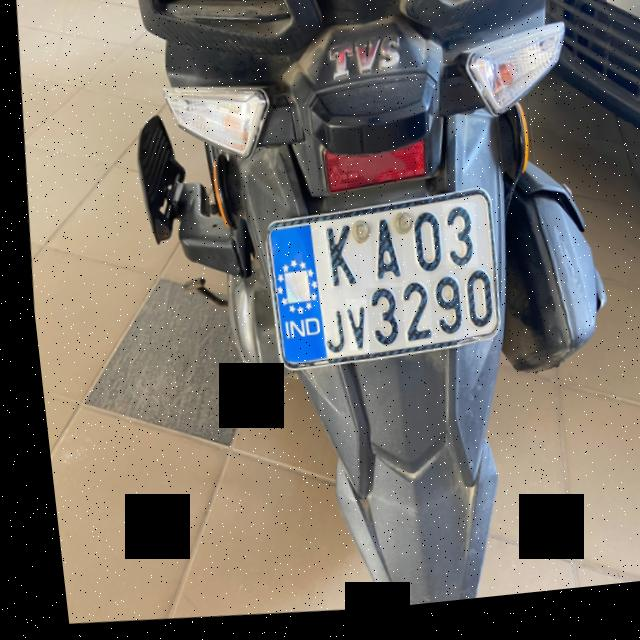0: (449, 271, 496, 341), (400, 214, 444, 284)
3: (355, 293, 399, 362), (433, 210, 474, 280)
9: (417, 272, 459, 356)
A: (360, 218, 401, 293)
J: (310, 312, 343, 363)
K: (310, 223, 358, 302)
V: (336, 305, 364, 358)
